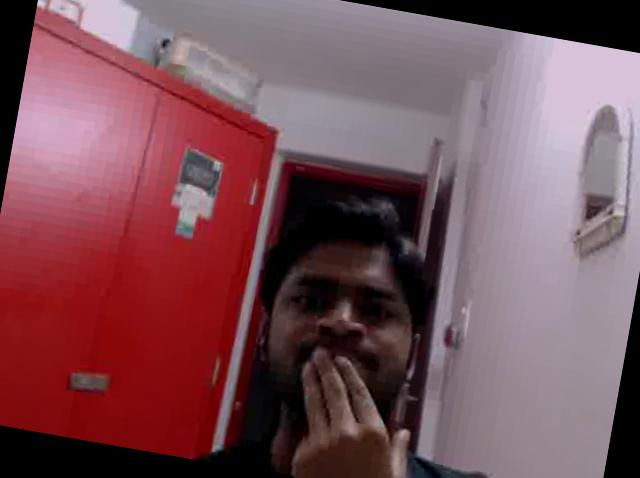bingung: (270, 242, 422, 418)
